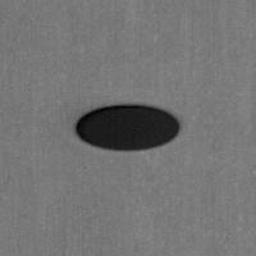Punching: (76, 105, 179, 151)
